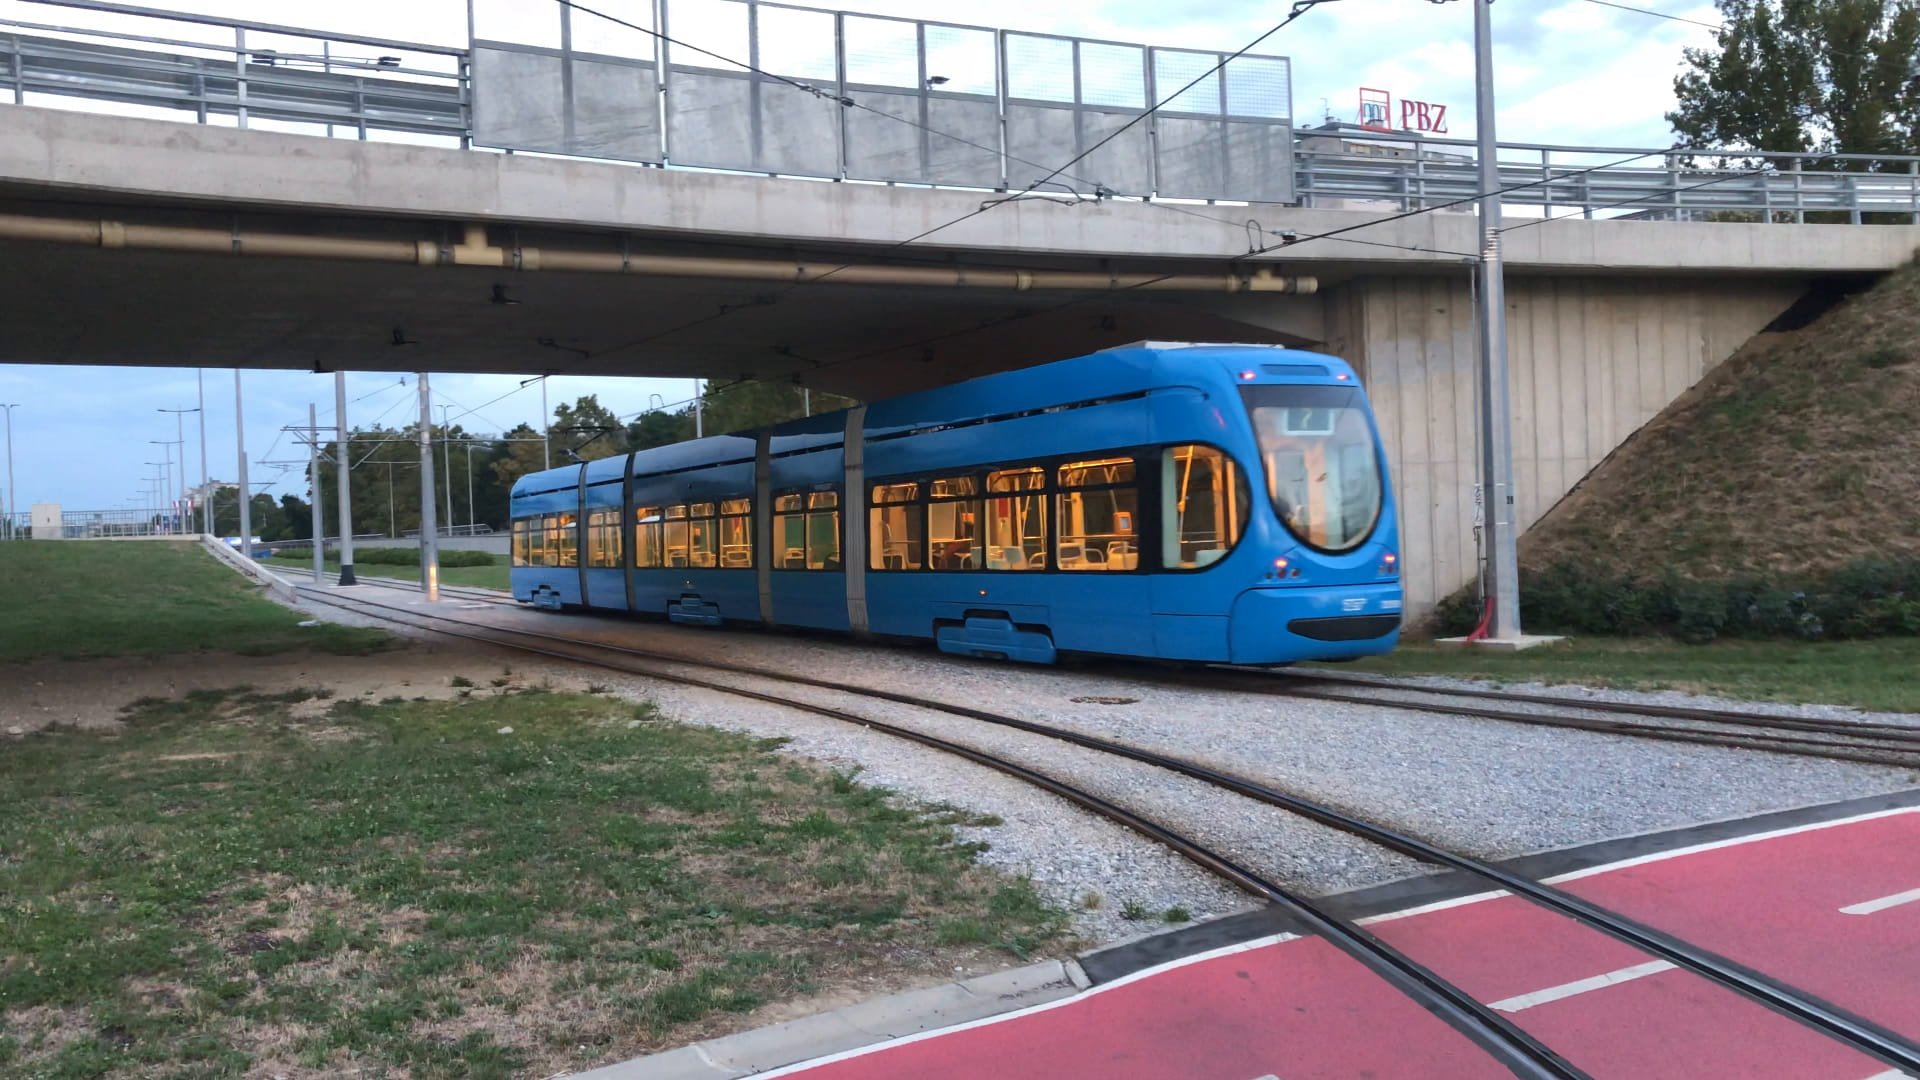tramvaj: (502, 338, 1407, 673)
